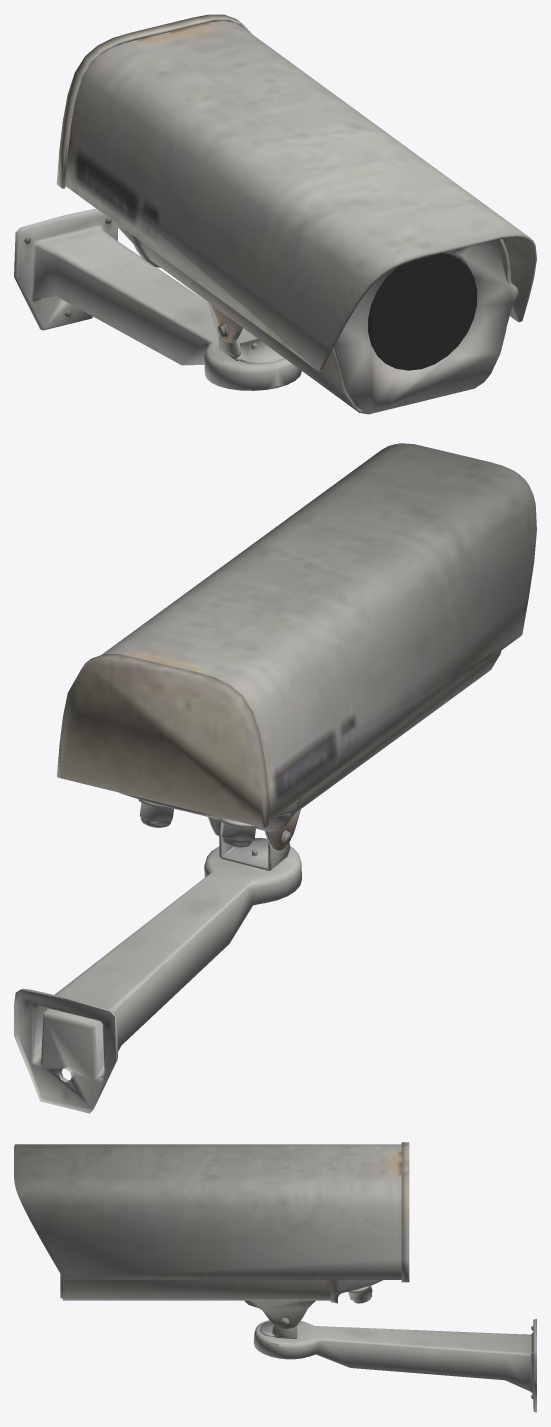
Rendered from security_camera_01.glb.
3 renders of one model, top to bottom at view 1: azimuth 30°, elevation 25°; view 2: azimuth 150°, elevation 25°; view 3: azimuth 270°, elevation 25°, orthographic. The views are drawn at different scales.
Visible parts, largest first — view 1: security_camera_01; view 2: security_camera_01; view 3: security_camera_01.
Boxes of the visible parts, bbox=[...] form: security_camera_01: bbox=[14, 14, 536, 414]; security_camera_01: bbox=[14, 443, 536, 1113]; security_camera_01: bbox=[14, 1142, 536, 1412].
Bounding box in the file's own units: 0.1695 × 0.2861 × 0.5537.
Materials: 2 (2 with a texture image).
